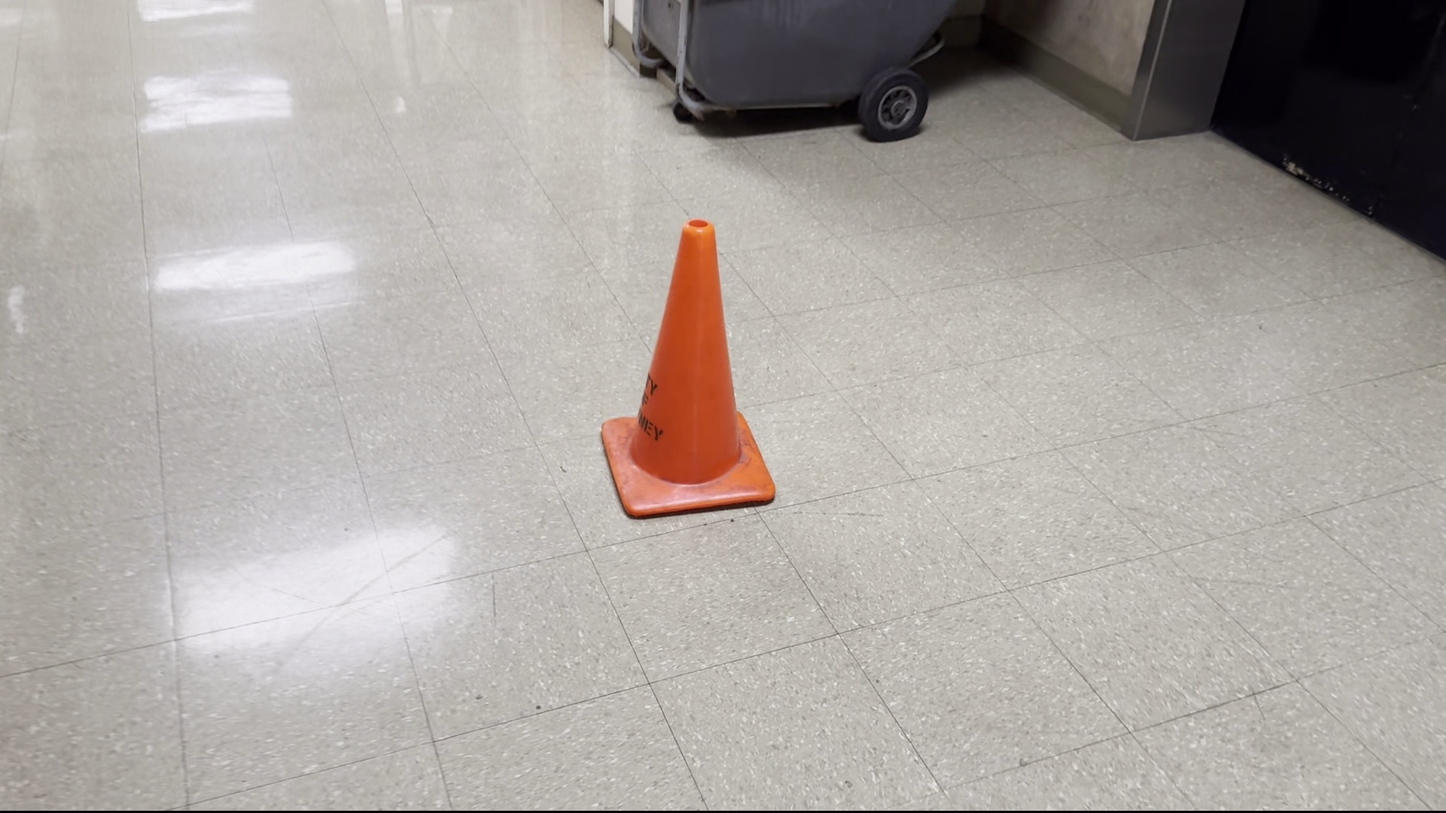traffic_cone: (599, 218, 776, 519)
